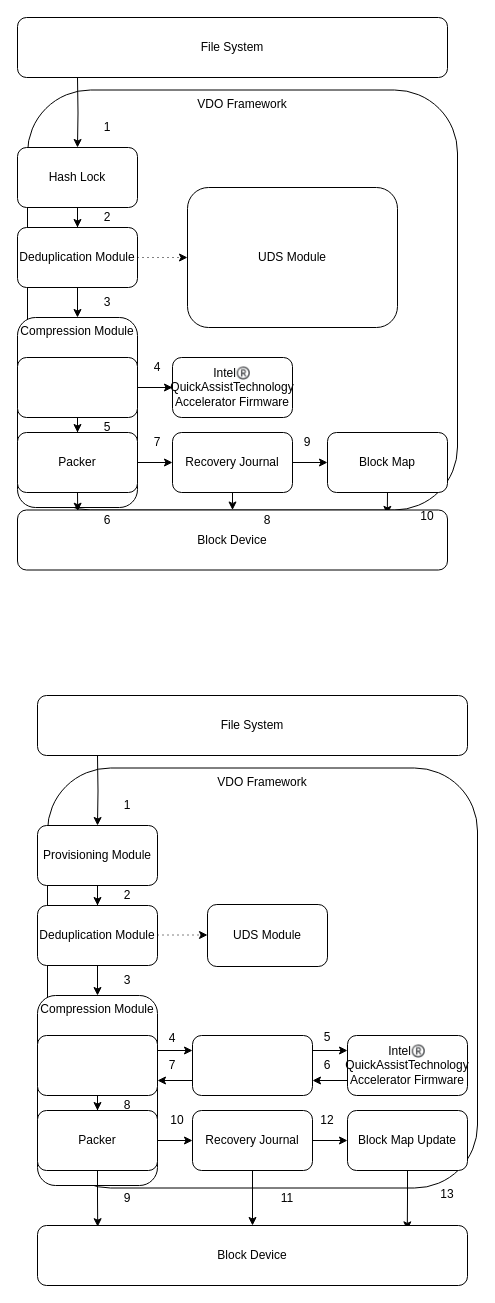
Image size: 495x1303. Some labels were removed from this diagram. Each missing label, with the centre of its shape:
"Compression Process Engine" belongs at point (97, 1065).
"QAT module" belongs at point (77, 387).
"QAT Offload Module" belongs at point (252, 1065).
